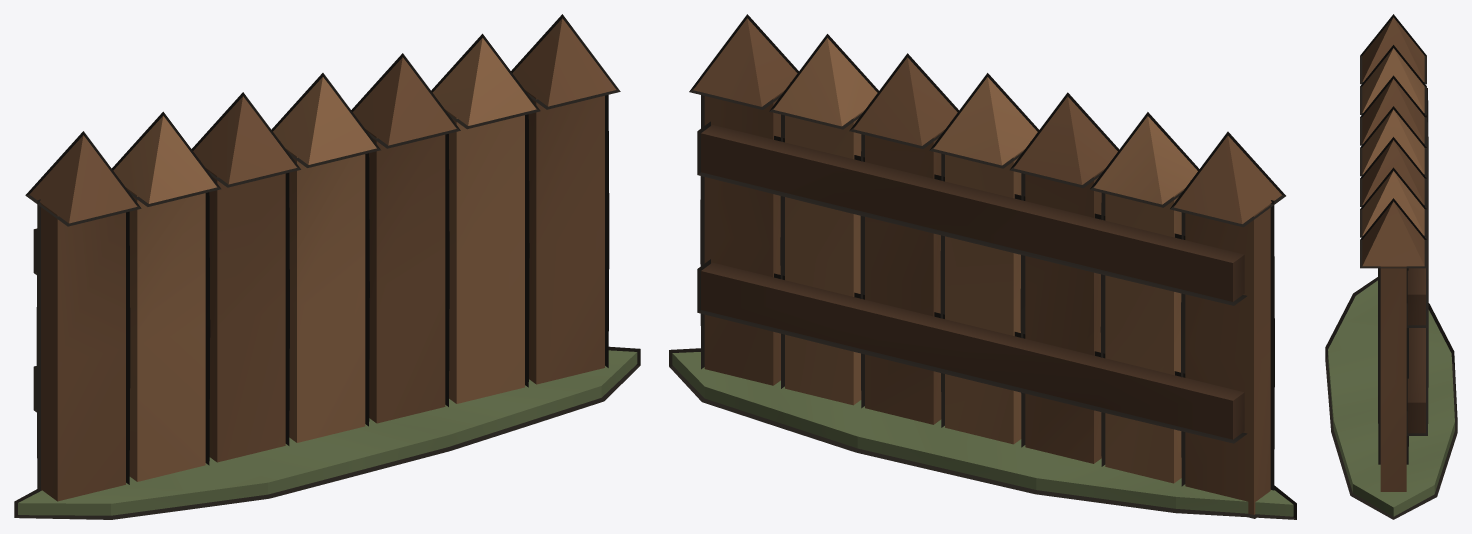
Rendered from palissade.glb.
3 renders of one model, left to right at view 1: azimuth 30°, elevation 25°; view 2: azimuth 150°, elevation 25°; view 3: azimuth 270°, elevation 25°, orthographic. The views are drawn at different scales.
Visible parts, largest first — view 1: palissade, palissade_outline; view 2: palissade, palissade_outline; view 3: palissade, palissade_outline.
Boxes of the visible parts, x1,y1,x2,y2 form: palissade: (18,18,637,515); palissade_outline: (14,14,640,519); palissade: (672,18,1293,516); palissade_outline: (669,14,1296,519); palissade: (1328,17,1454,516); palissade_outline: (1325,14,1457,519).
Bounding box in the file's own units: 2.2 × 1.24 × 0.5098.
